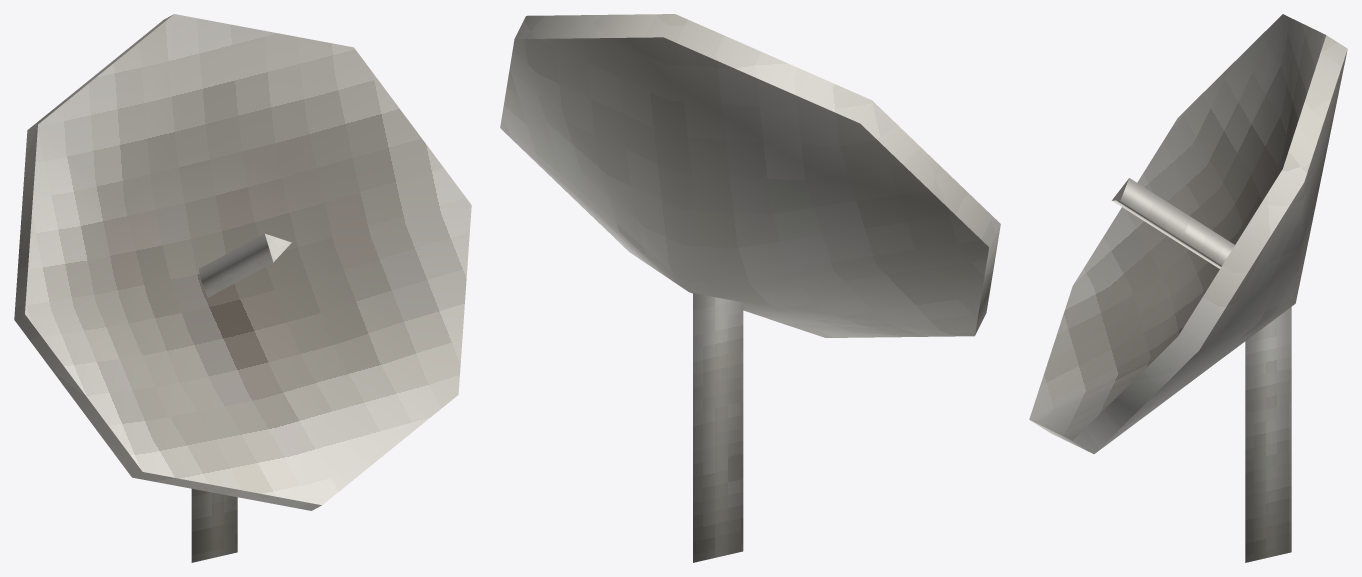
Rendered from antennae.FBX.
The picture shows the model from 3 angles, left to right: view 1: azimuth 30°, elevation 25°; view 2: azimuth 150°, elevation 25°; view 3: azimuth 270°, elevation 25°; orthographic projection. The views are drawn at different scales.
Visible parts, largest first — view 1: Cylinder001; view 2: Cylinder001; view 3: Cylinder001.
Part boxes in pixels (box(x1,y1,x2,y2)): Cylinder001: box(14, 14, 471, 562); Cylinder001: box(500, 14, 1000, 562); Cylinder001: box(1029, 14, 1347, 562).
Bounding box in the file's own units: 1.22 × 1.34 × 0.7476.
